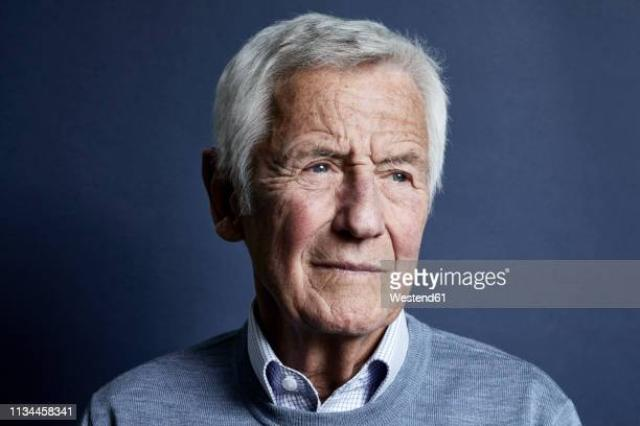chin: (301, 276, 327, 300)
crows_feet: (272, 162, 302, 188), (408, 176, 428, 198)
forehead: (312, 108, 333, 140), (396, 130, 424, 148)
frown_line: (346, 142, 364, 168), (366, 141, 379, 162)
gummy_smile: (308, 213, 336, 236), (382, 224, 400, 258)
sad_smile: (296, 246, 308, 266)
